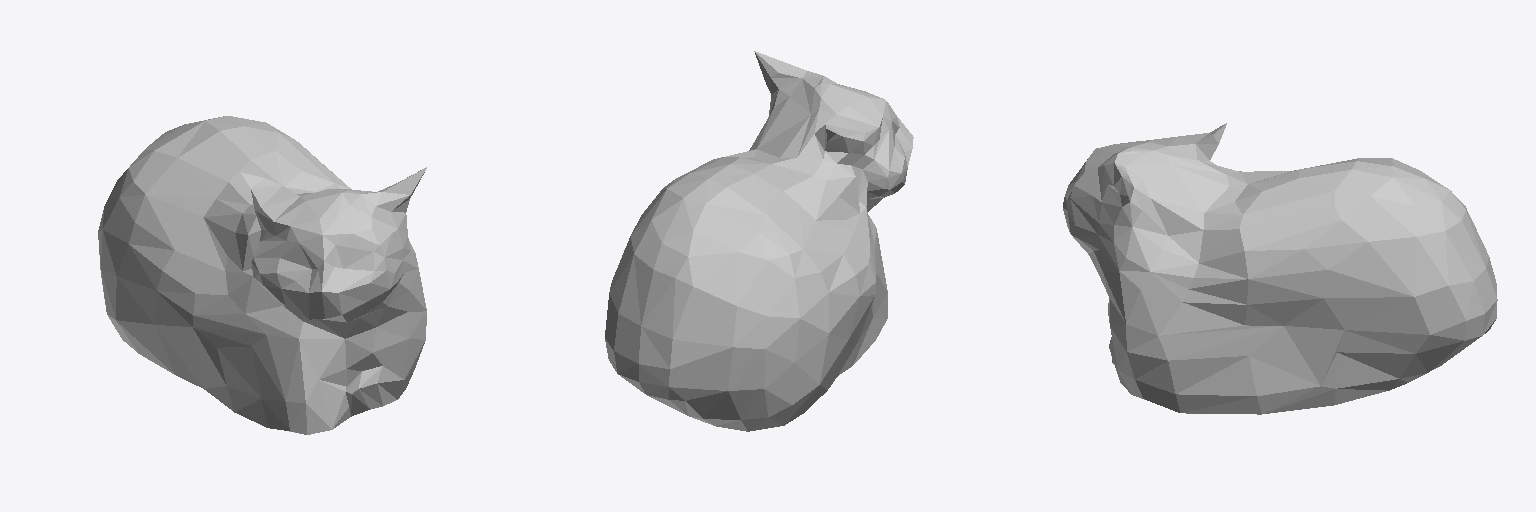
Rendered from max.obj.
3 views of the same model, side by side, from view 1: azimuth 30°, elevation 25°; view 2: azimuth 150°, elevation 25°; view 3: azimuth 270°, elevation 25° (orthographic).
Visible parts, largest first — view 1: Maxwell; view 2: Maxwell; view 3: Maxwell.
Part boxes in pixels (bbox=[...]): Maxwell: bbox=[98, 116, 426, 434]; Maxwell: bbox=[605, 51, 913, 431]; Maxwell: bbox=[1063, 123, 1497, 414].
Bounding box in the file's own units: 2.06 × 2.45 × 3.87.